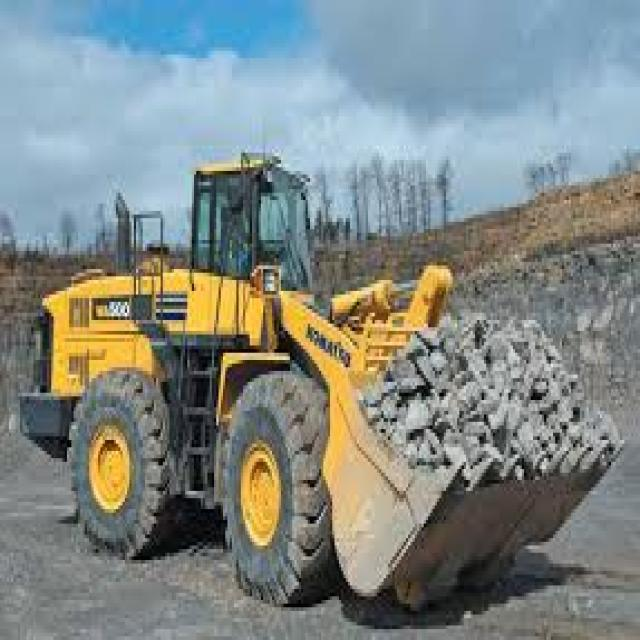buldozerpayloadergrader: (17, 144, 625, 616)
